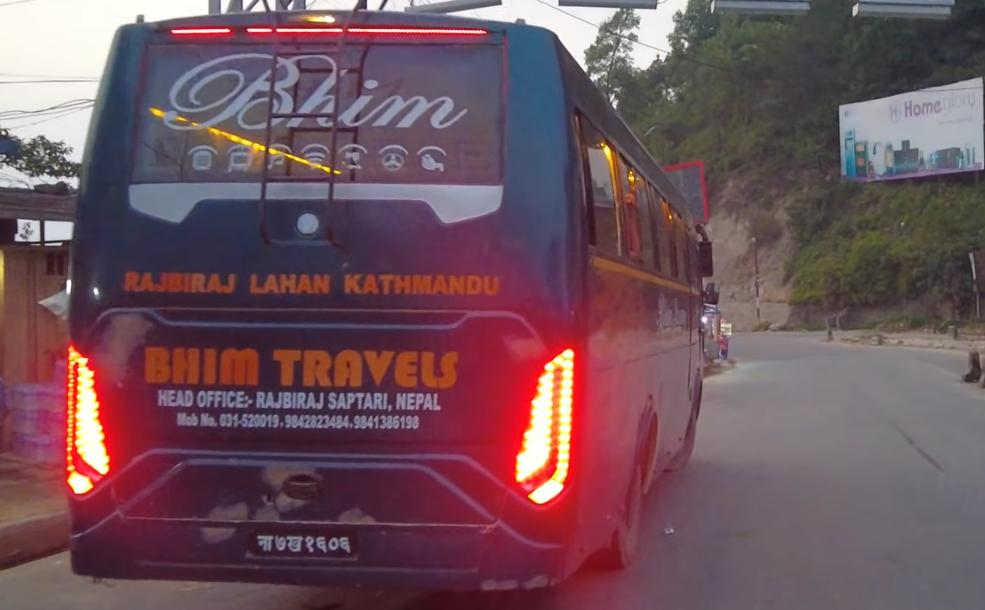bus: (51, 0, 717, 610)
